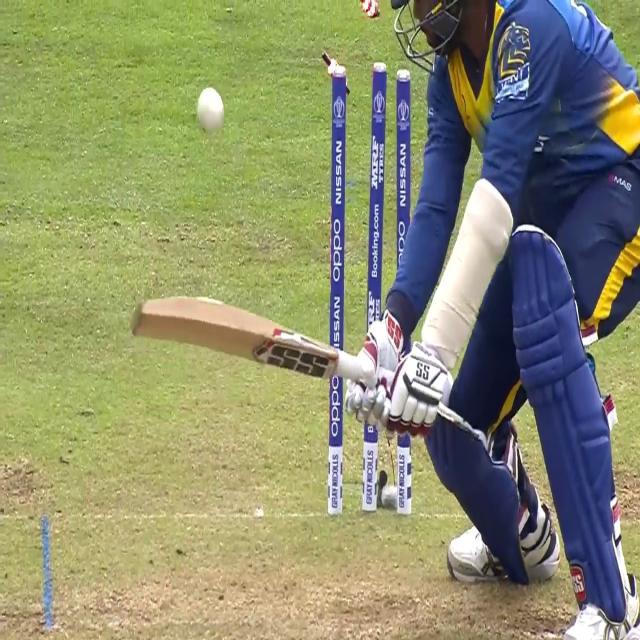ball: (196, 82, 225, 136)
